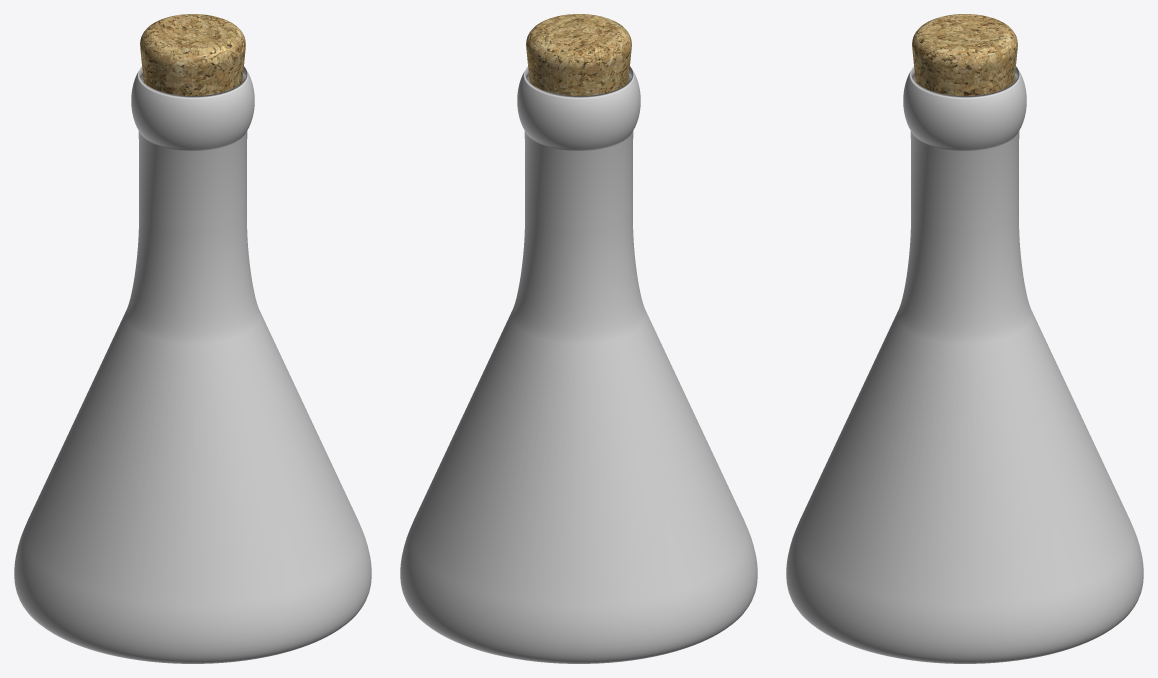
The model's file is Beaker.fbx.
3 views of the same model, side by side, from view 1: azimuth 30°, elevation 25°; view 2: azimuth 150°, elevation 25°; view 3: azimuth 270°, elevation 25° (orthographic).
Visible parts, largest first — view 1: Kolben 1, Cylinder; view 2: Kolben 1, Cylinder; view 3: Kolben 1, Cylinder.
Boxes of the visible parts, x1,y1,x2,y2 form: Kolben 1: (14, 66, 371, 663); Cylinder: (140, 14, 245, 95); Kolben 1: (400, 66, 757, 663); Cylinder: (526, 14, 631, 95); Kolben 1: (786, 66, 1143, 663); Cylinder: (912, 14, 1017, 95).
Bounding box in the file's own units: 663 × 1149 × 664.
